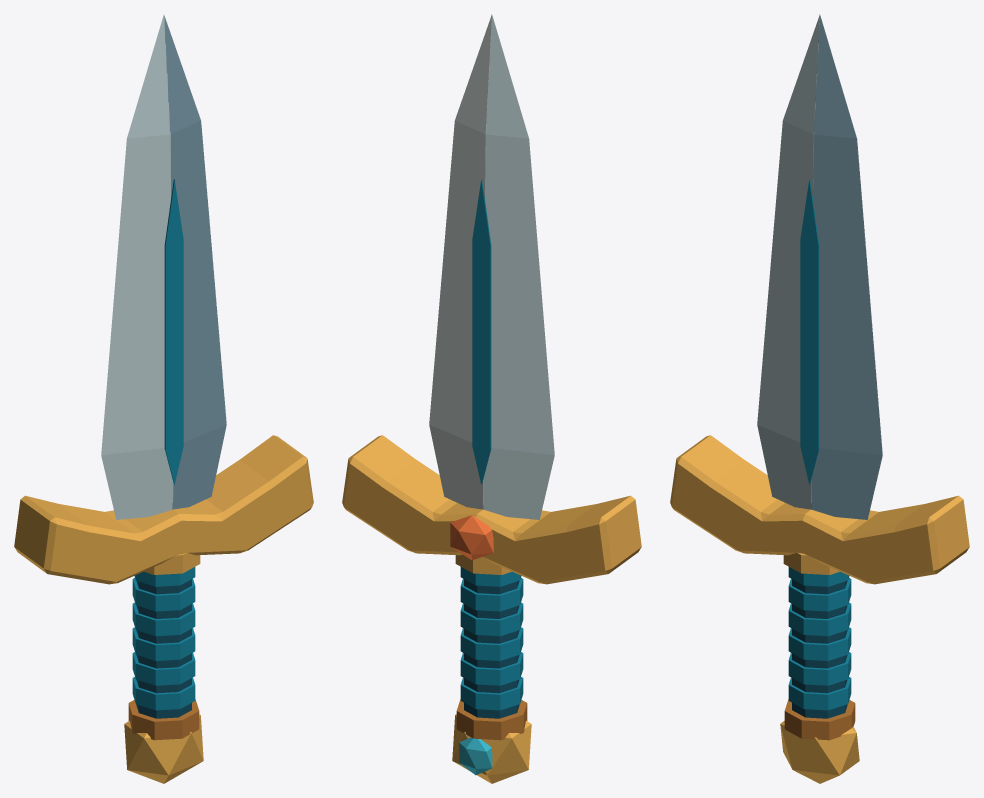
Rendered from sword_parts.gltf.
The picture shows the model from 3 angles, left to right: view 1: azimuth 30°, elevation 25°; view 2: azimuth 150°, elevation 25°; view 3: azimuth 330°, elevation 25°; orthographic projection.
Parts seen in each view (by area): view 1: Sword_Blade_Steel, Sword_Guard_Metal, Sword_Blade_Inlay_Back, Sword_Pommel_Metal, Sword_Grip_Leather, Sword_Grip_Collar_Bottom, Sword_Grip_Wrap_02, Sword_Grip_Wrap_06, Sword_Grip_Wrap_05, Sword_Grip_Wrap_03, Sword_Grip_Wrap_04, Sword_Grip_Collar_Top (+1 smaller); view 2: Sword_Blade_Steel, Sword_Guard_Metal, Sword_Blade_Inlay_Front, Sword_Grip_Leather, Sword_Pommel_Metal, Sword_Grip_Collar_Bottom, Sword_Guard_Gem, Sword_Grip_Wrap_02, Sword_Grip_Wrap_06, Sword_Grip_Wrap_05, Sword_Grip_Wrap_03, Sword_Grip_Wrap_04 (+3 smaller); view 3: Sword_Blade_Steel, Sword_Guard_Metal, Sword_Blade_Inlay_Back, Sword_Pommel_Metal, Sword_Grip_Leather, Sword_Grip_Collar_Bottom, Sword_Grip_Wrap_02, Sword_Grip_Wrap_06, Sword_Grip_Wrap_05, Sword_Grip_Wrap_03, Sword_Grip_Wrap_04, Sword_Grip_Collar_Top (+1 smaller).
Part boxes in pixels (x1,y1,x2,y2): Sword_Blade_Steel: (101, 14, 226, 519); Sword_Guard_Metal: (14, 435, 313, 584); Sword_Blade_Inlay_Back: (164, 179, 183, 484); Sword_Pommel_Metal: (124, 714, 203, 783); Sword_Grip_Leather: (136, 579, 191, 718); Sword_Grip_Collar_Bottom: (128, 699, 199, 740); Sword_Grip_Wrap_02: (132, 578, 195, 611); Sword_Grip_Wrap_06: (132, 677, 195, 710); Sword_Grip_Wrap_05: (132, 652, 195, 685); Sword_Grip_Wrap_03: (132, 602, 195, 636); Sword_Grip_Wrap_04: (132, 627, 195, 660); Sword_Grip_Collar_Top: (144, 552, 200, 574); Sword_Blade_Steel: (429, 14, 554, 519); Sword_Guard_Metal: (342, 435, 641, 584); Sword_Blade_Inlay_Front: (472, 179, 491, 484); Sword_Grip_Leather: (464, 579, 519, 718); Sword_Pommel_Metal: (452, 714, 531, 783); Sword_Grip_Collar_Bottom: (456, 699, 527, 740); Sword_Guard_Gem: (450, 515, 493, 560); Sword_Grip_Wrap_02: (460, 578, 523, 611); Sword_Grip_Wrap_06: (460, 677, 523, 710); Sword_Grip_Wrap_05: (460, 652, 523, 685); Sword_Grip_Wrap_03: (460, 602, 523, 636); Sword_Grip_Wrap_04: (460, 627, 523, 660); Sword_Blade_Steel: (757, 14, 882, 519); Sword_Guard_Metal: (670, 435, 969, 584); Sword_Blade_Inlay_Back: (800, 179, 819, 484); Sword_Pommel_Metal: (780, 721, 859, 783); Sword_Grip_Leather: (792, 579, 847, 718); Sword_Grip_Collar_Bottom: (784, 699, 855, 740); Sword_Grip_Wrap_02: (788, 578, 851, 611); Sword_Grip_Wrap_06: (788, 677, 851, 710); Sword_Grip_Wrap_05: (788, 652, 851, 685); Sword_Grip_Wrap_03: (788, 602, 851, 636); Sword_Grip_Wrap_04: (788, 627, 851, 660); Sword_Grip_Collar_Top: (783, 552, 839, 574).
Size of the model in its own units: 0.3762 by 1.02 by 0.1105.
16 materials, 16 textured.
